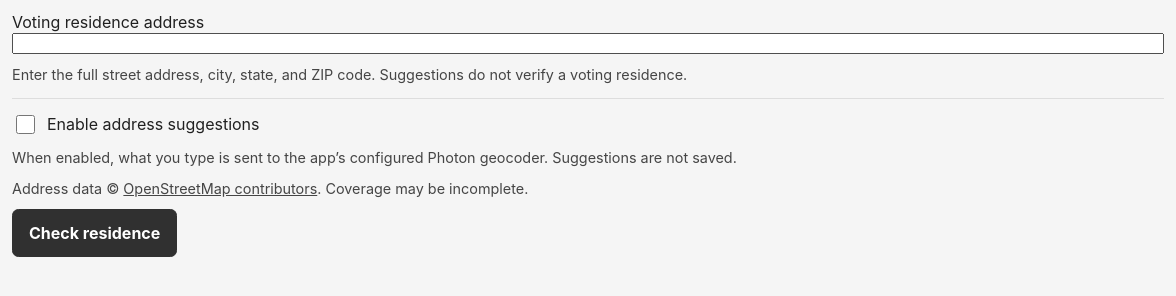
address suggestions › supports Arrow keys and Enter to fill the address without checking or saving it
Click the checkbox labelled "Enable address suggestions" at (26, 124), box x1=16 y1=115 x2=35 y2=134
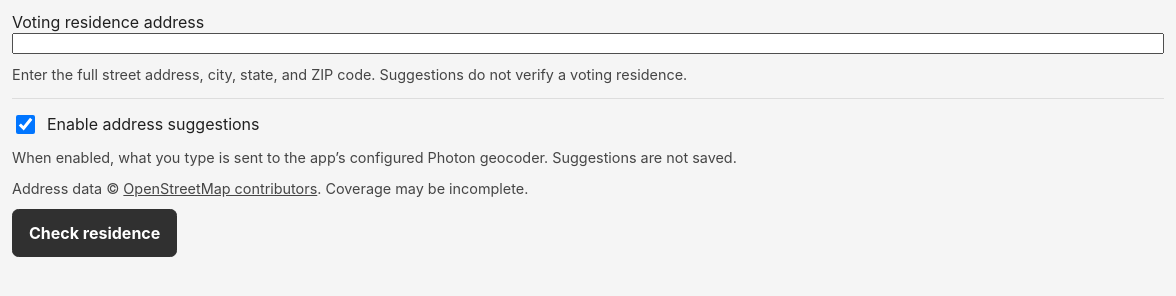
Type "123 Mian St" into the dropdown labelled "Voting residence address" at (588, 44), box x1=12 y1=33 x2=1164 y2=54
Wait 500 ms
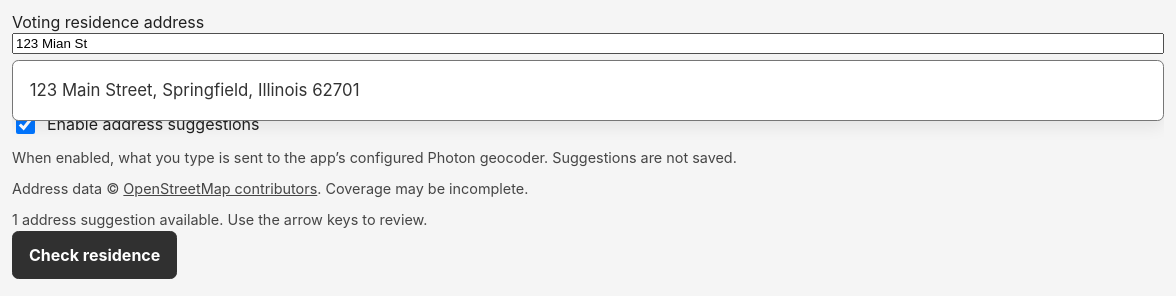
Check: the dropdown is expanded
Press ArrowDown in the dropdown, box x1=12 y1=33 x2=1164 y2=54
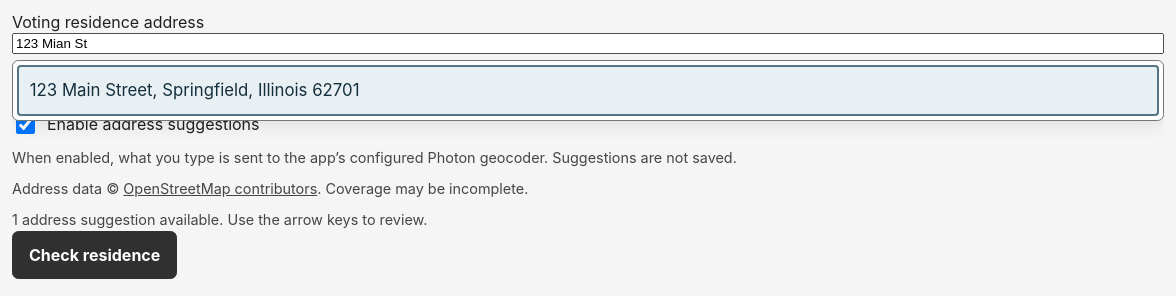
Press Enter in the dropdown, box x1=12 y1=33 x2=1164 y2=54
Wait 500 ms
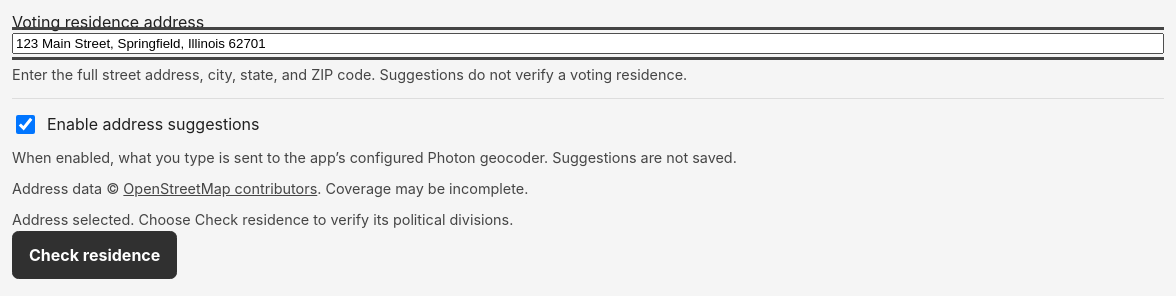
Check: the dropdown holds "123 Main Street, Springfield, Illinois 62701", box x1=12 y1=33 x2=1164 y2=54
Check: the list is gone
Check: the text "Address selected. Choose Check residence to verify its political divisions." is shown, box x1=12 y1=211 x2=513 y2=228
